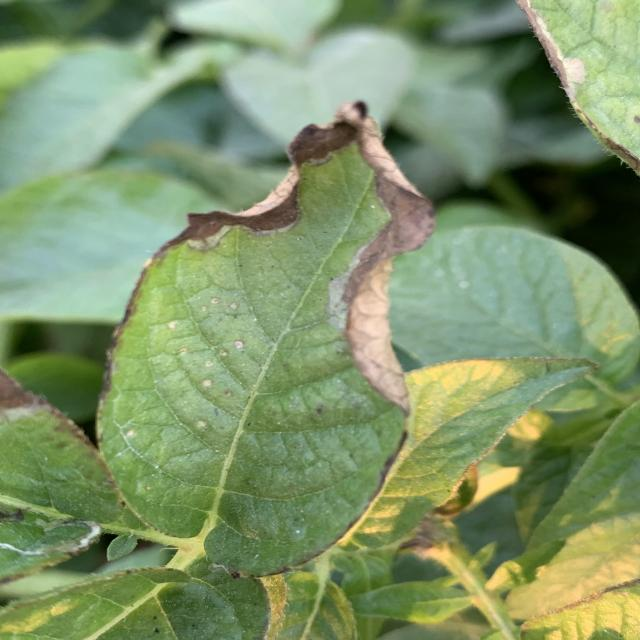lateblight: (137, 102, 433, 374)
